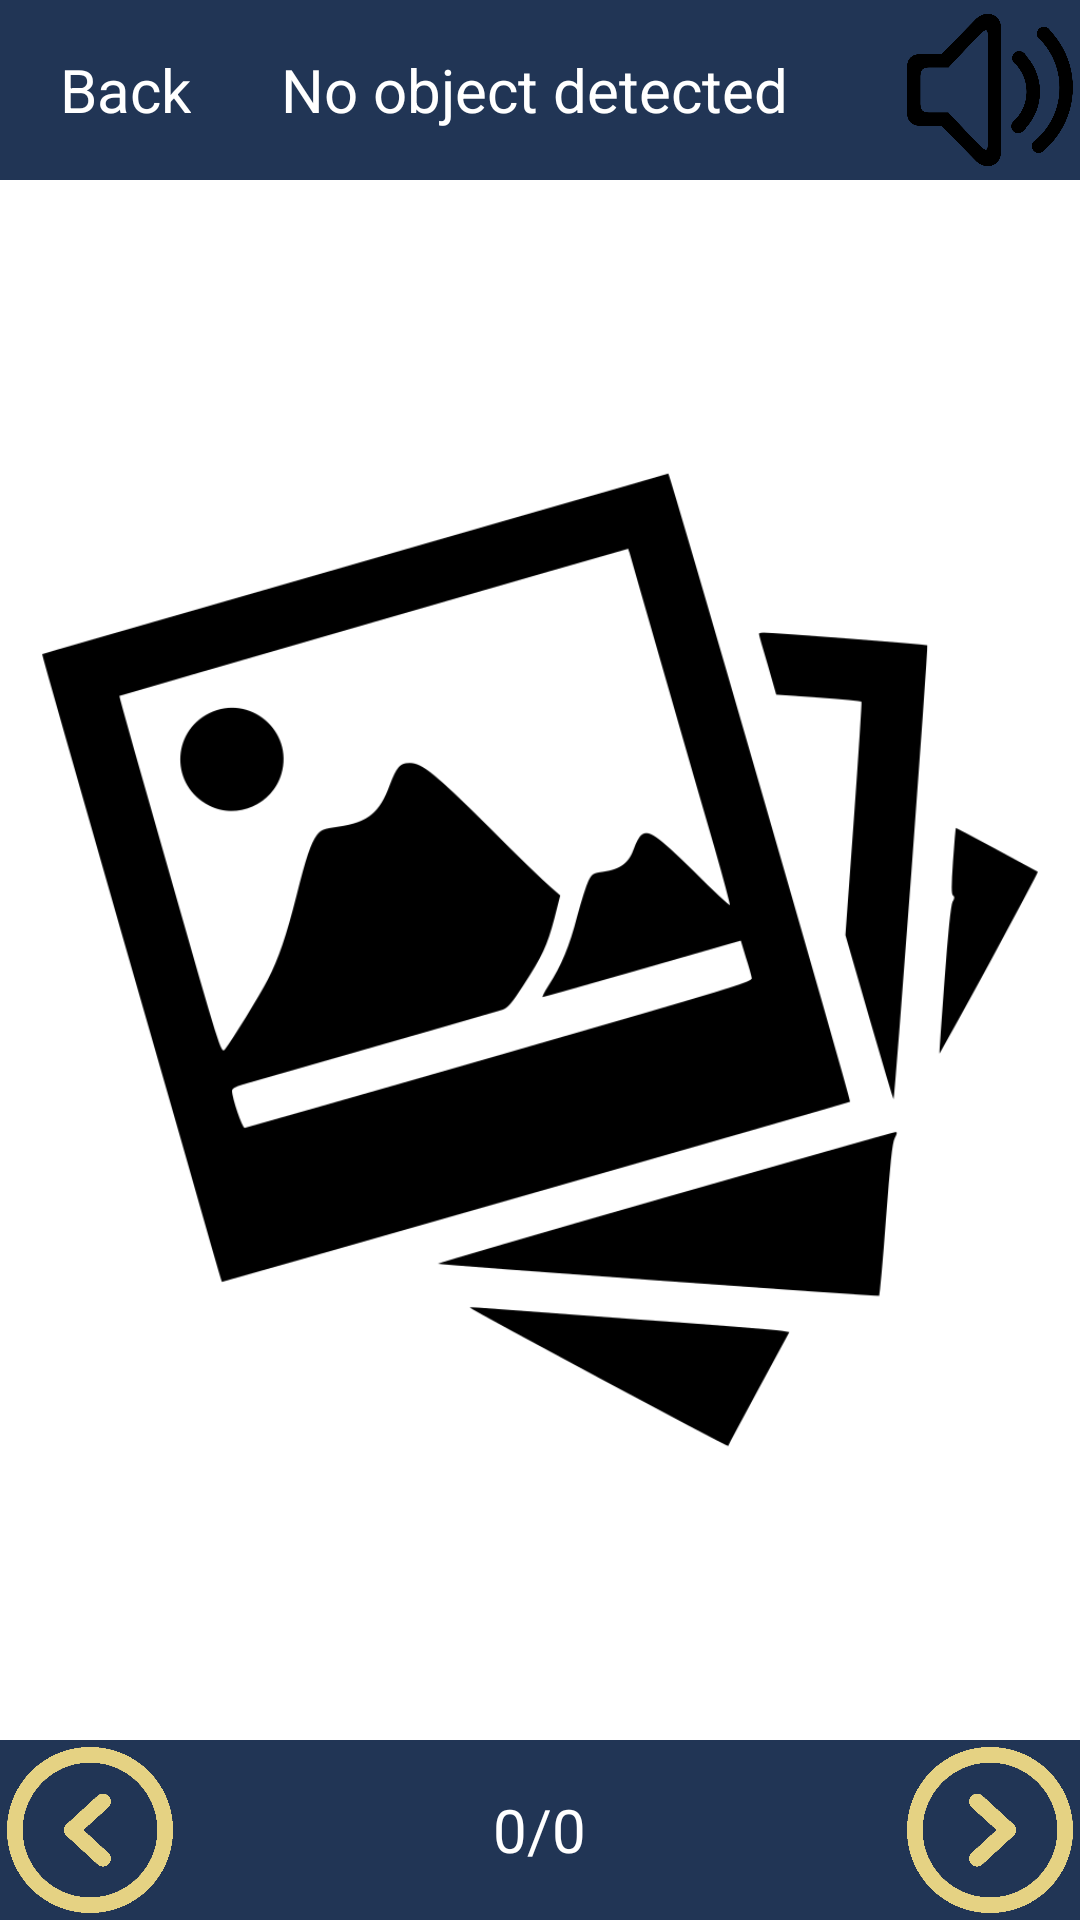

Point at icon controls on the screen. Image size 1080 x 1920, points as (x=x, y=y).
back: (x=90, y=1830)
forward: (x=990, y=1830)
speaker: (x=990, y=90)
